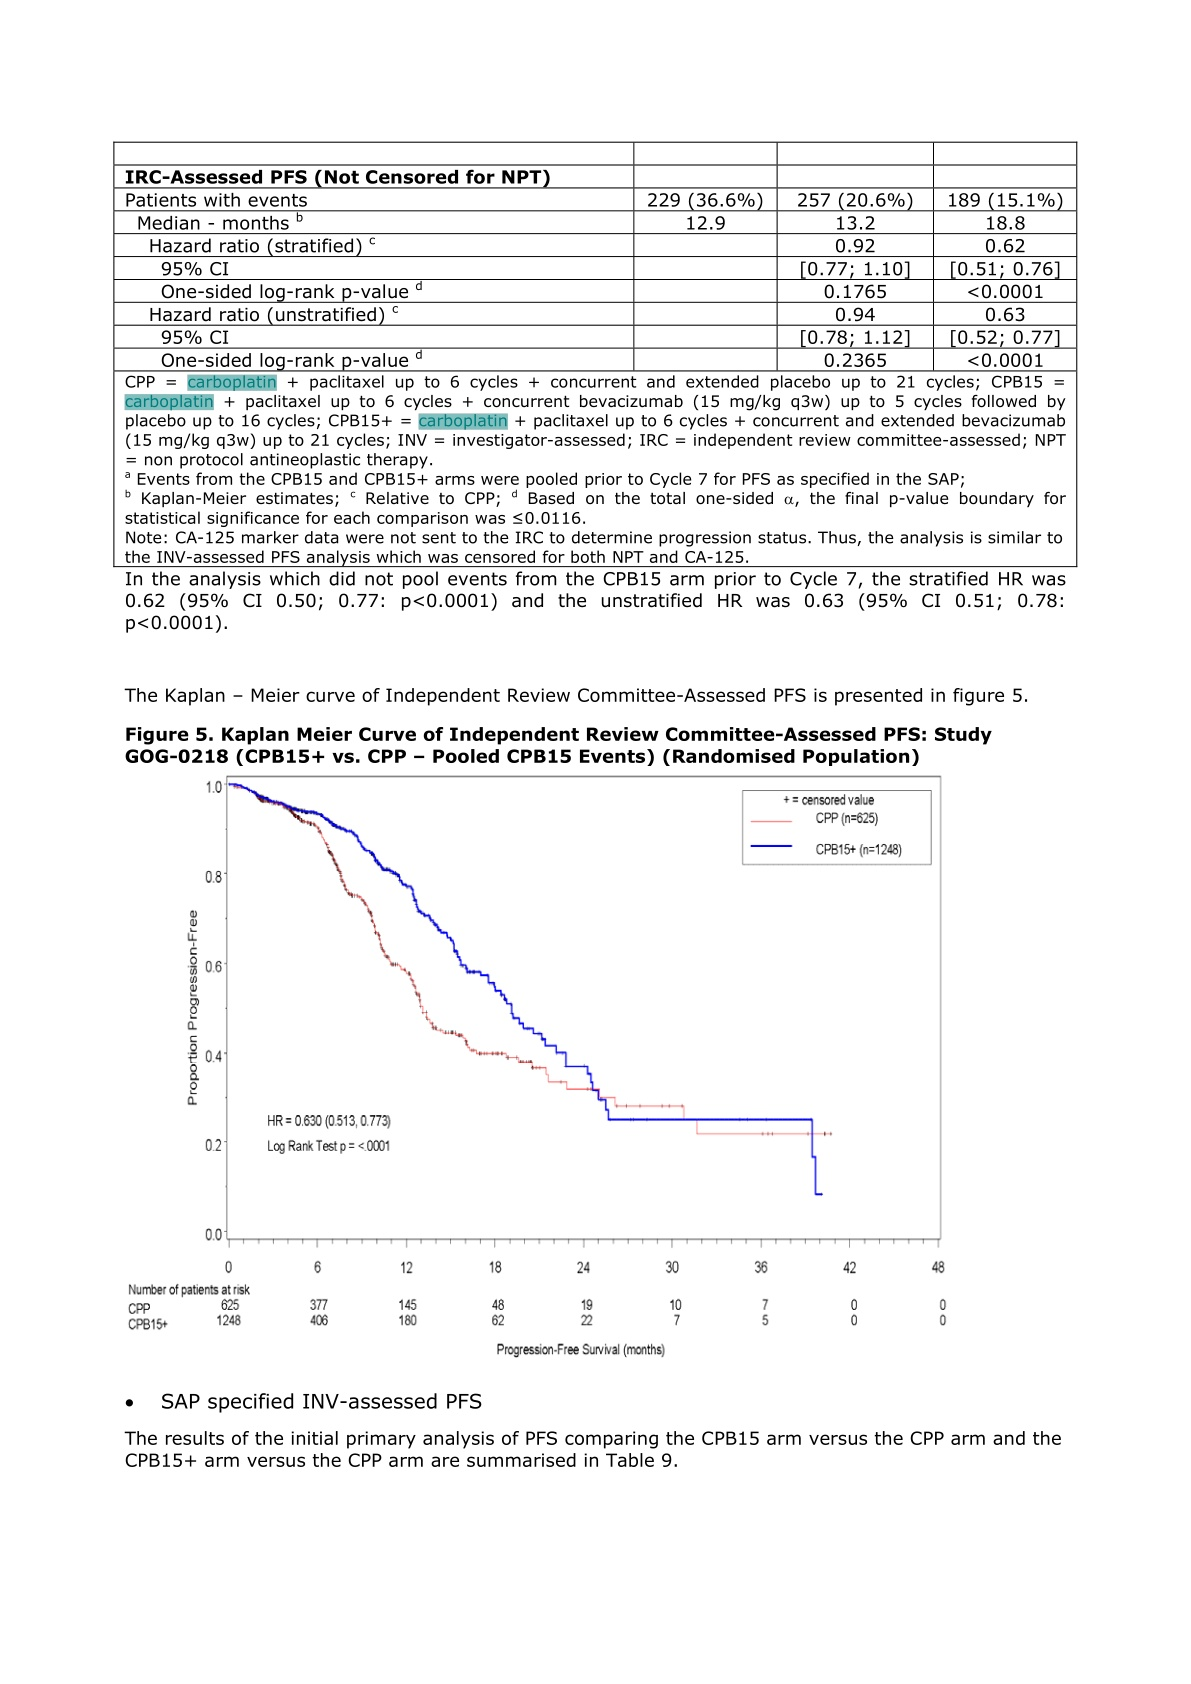merged_cells: (113, 139, 1078, 568)
nolines: (126, 1282, 947, 1331)
